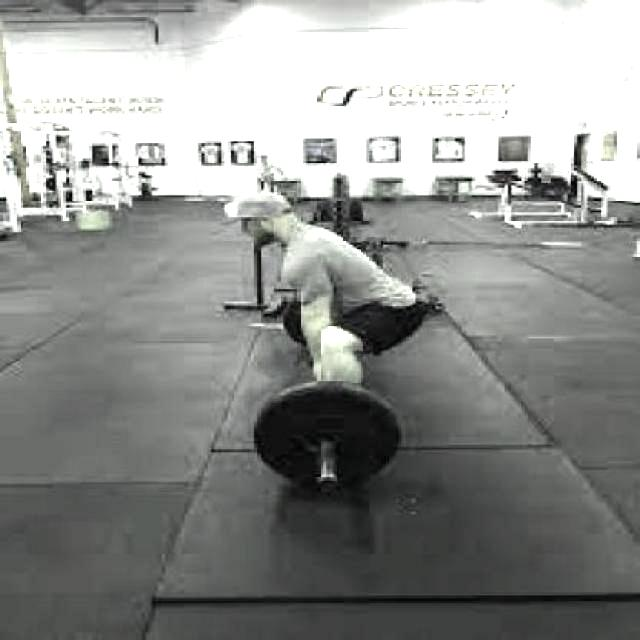barbell: (242, 377, 414, 502)
